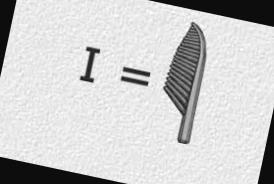Reed: (162, 13, 207, 151)
